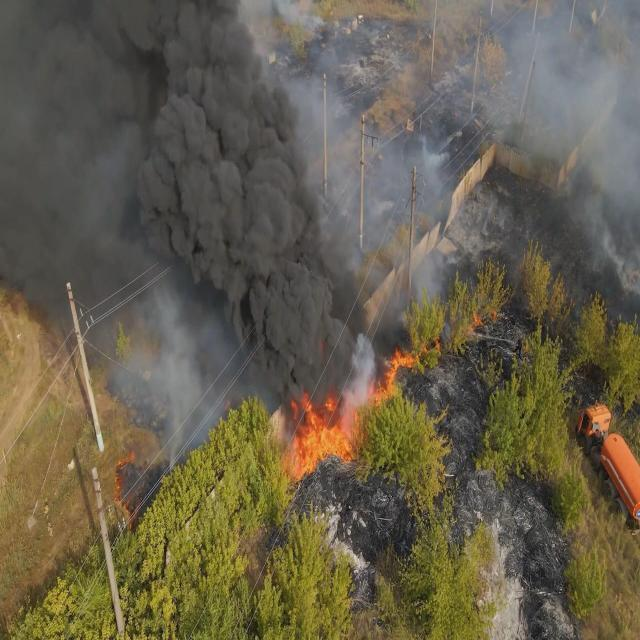Fire: (285, 390, 357, 477), (358, 350, 412, 413), (114, 451, 138, 520)
Smoke: (0, 0, 351, 393), (264, 0, 640, 298), (112, 280, 222, 460)
